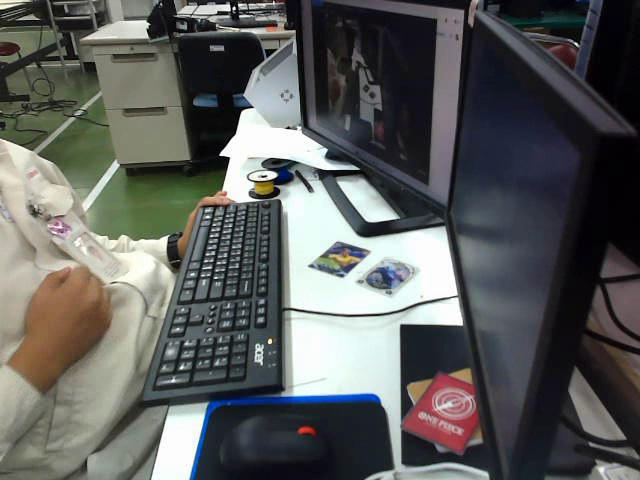can: (364, 255, 426, 296)
